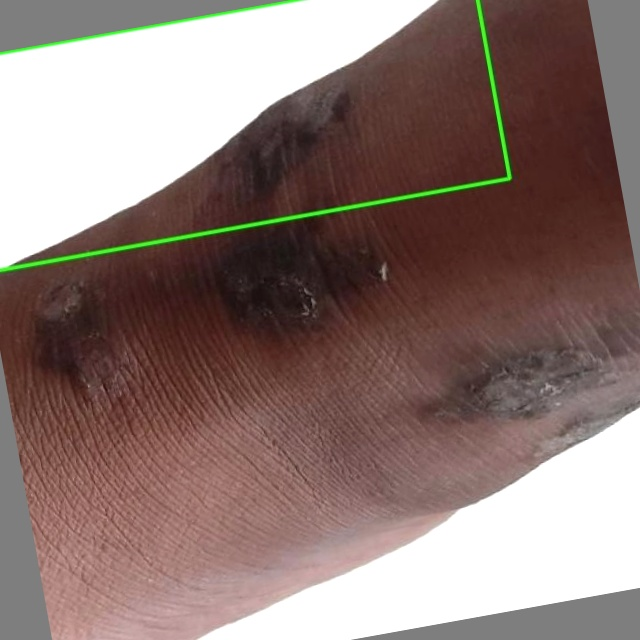Contact Dermatitis: (0, 0, 509, 270)
